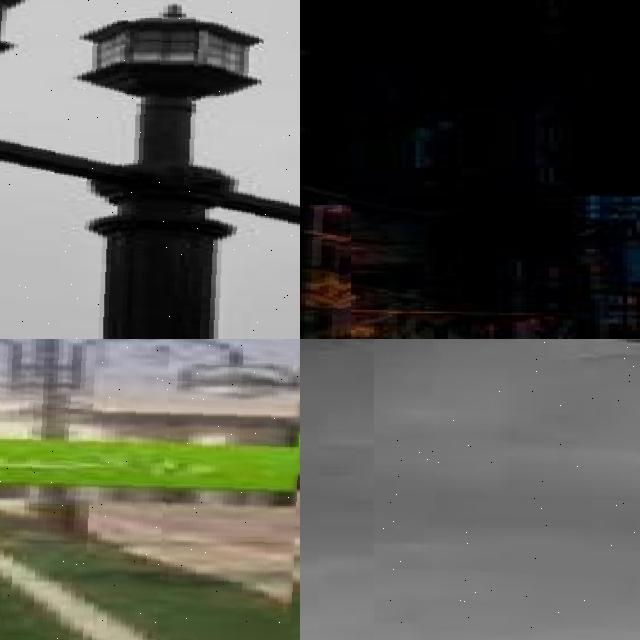street light: (0, 0, 300, 339), (0, 339, 300, 640), (374, 339, 640, 640), (0, 339, 300, 520), (300, 205, 351, 339)
